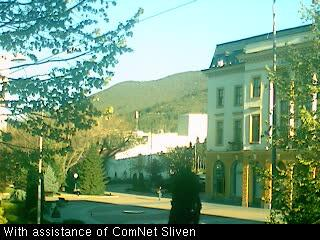person: (157, 189, 163, 201)
